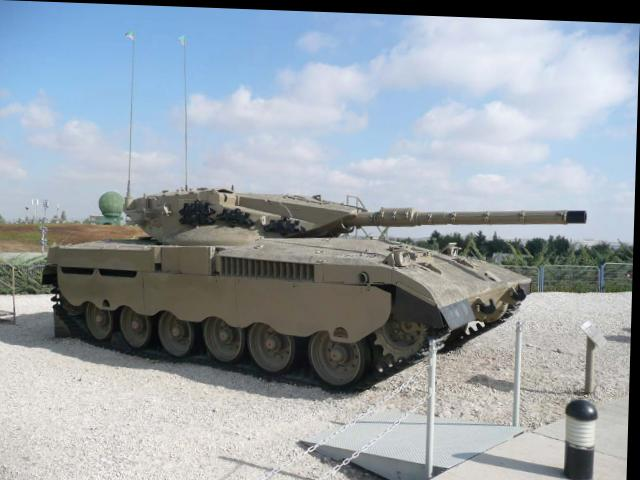tank: (42, 168, 534, 399)
